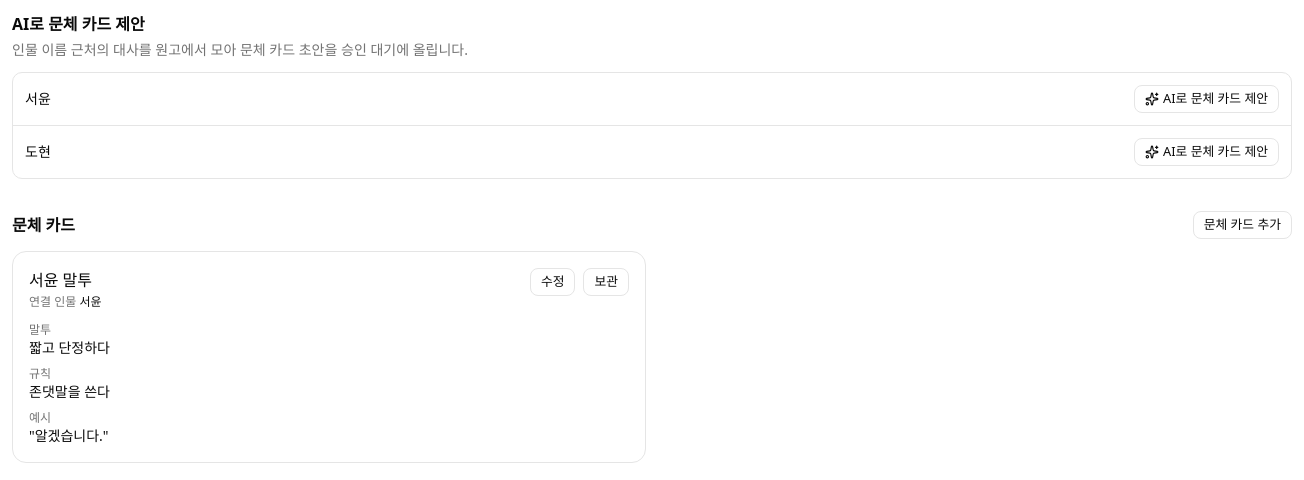
Test: StyleCards › shows the elapsed seconds and a cancel button while the suggestion runs
What coordinates should you click on to do the following:
click the button "AI로 문체 카드 제안" in the row of "도현"
I would click on:
 (1207, 152)
Its box is [1134,138,1279,166].
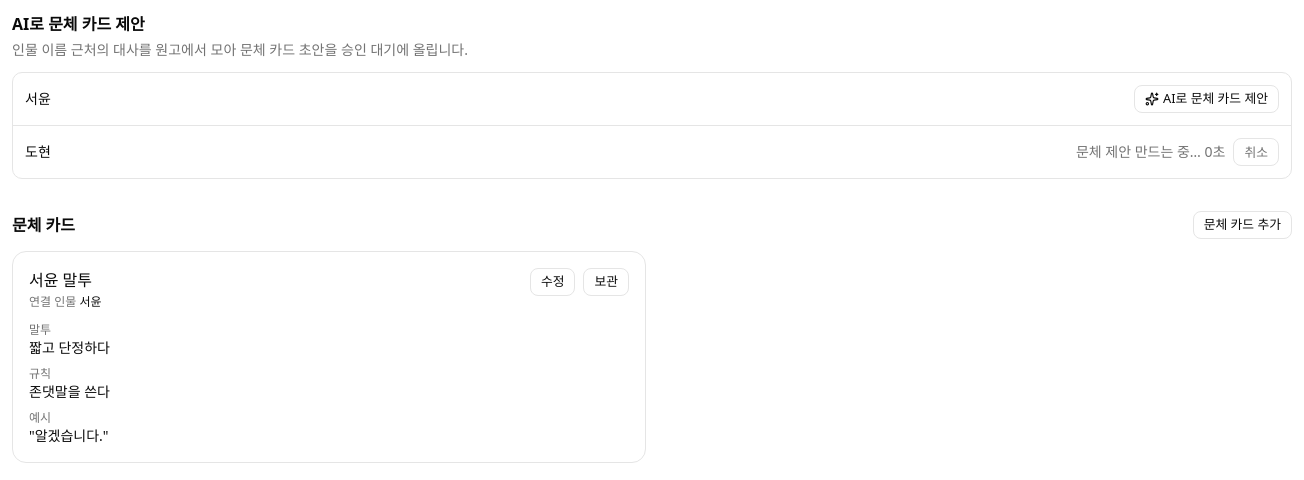
Result: the text "문체 제안 만드는 중… 0초" is shown at [1076,142,1226,162]
Result: the button "취소" is shown at [1234,138,1279,166]
